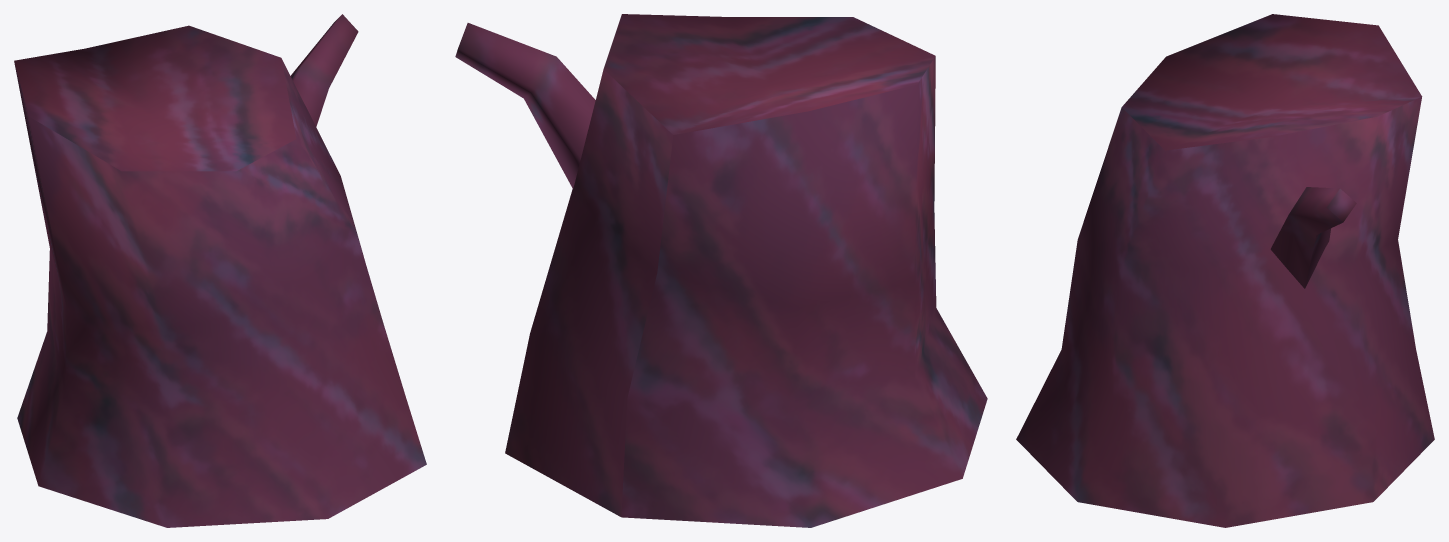
File: TreeStump_01.fbx
The picture shows the model from 3 angles, left to right: view 1: azimuth 30°, elevation 25°; view 2: azimuth 150°, elevation 25°; view 3: azimuth 270°, elevation 25°; orthographic projection. The views are drawn at different scales.
Visible parts, largest first — view 1: Cylinder.008, Cylinder.009; view 2: Cylinder.008, Cylinder.009; view 3: Cylinder.008, Cylinder.009.
Part boxes in pixels (x1,y1,x2,y2): Cylinder.008: (14,25,426,527); Cylinder.009: (290,14,358,126); Cylinder.008: (505,14,987,527); Cylinder.009: (455,23,595,188); Cylinder.008: (1016,14,1434,527); Cylinder.009: (1270,187,1356,288).
Bounding box in the file's own units: 125 × 114 × 123.
